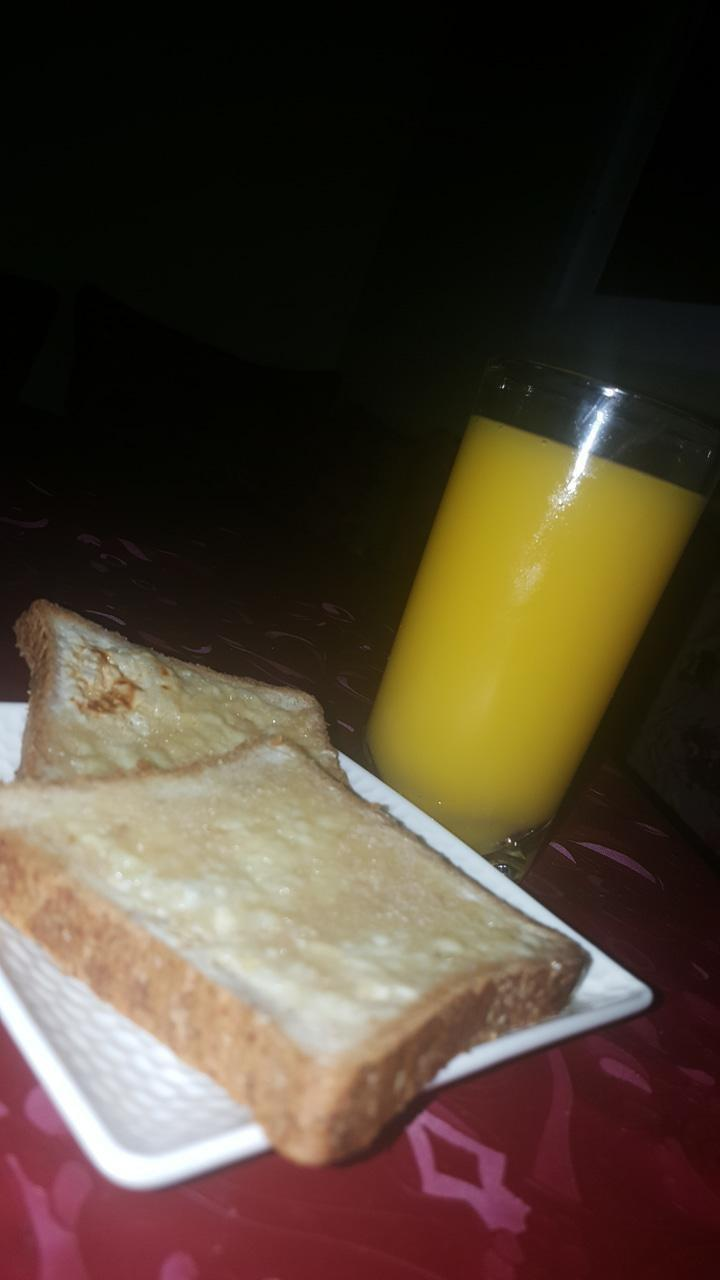glass-normal: (361, 356, 715, 846)
